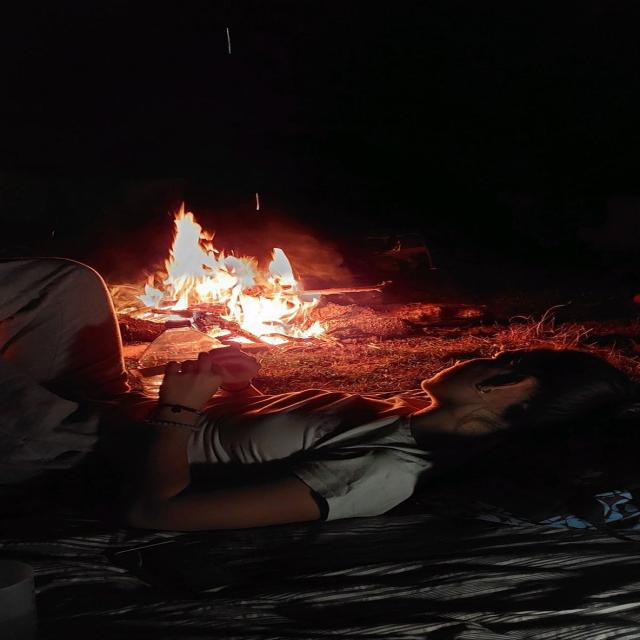fire: (220, 248, 324, 345), (165, 201, 219, 310)
